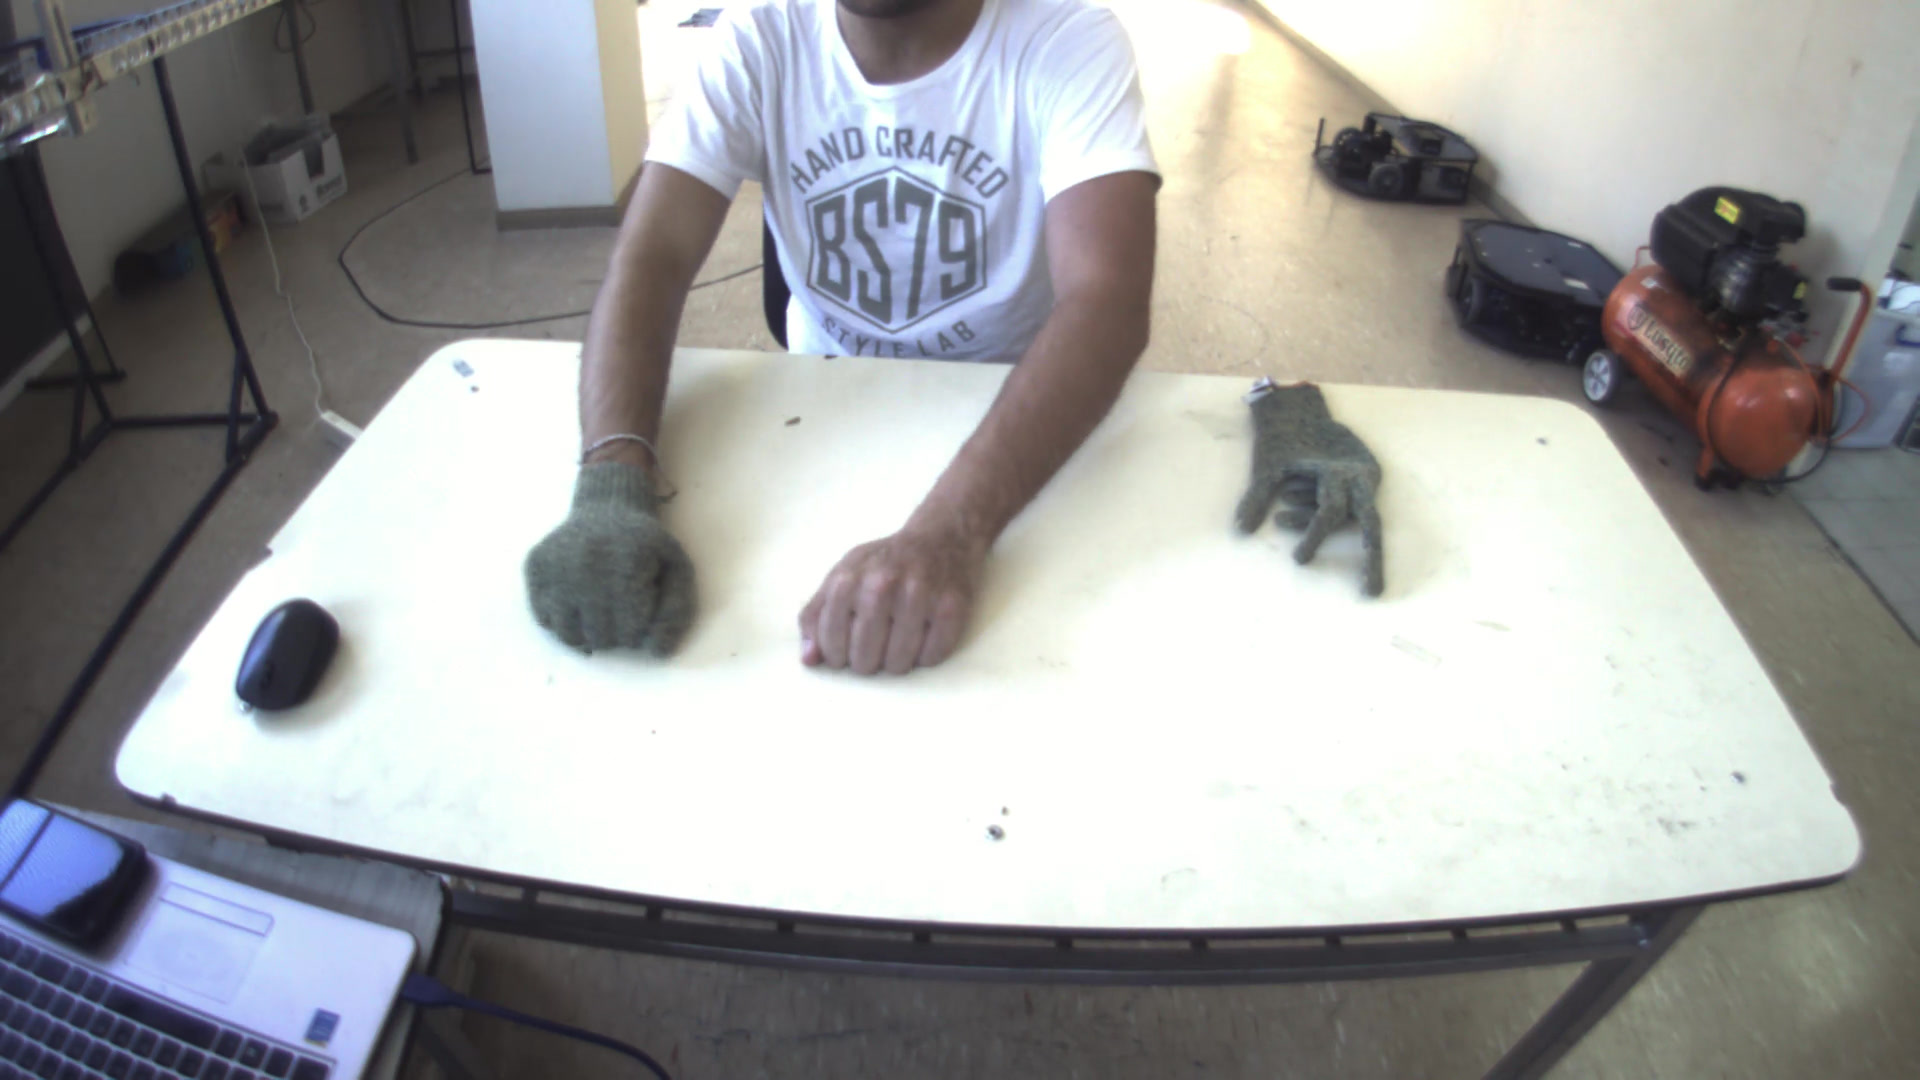hand: (509, 434, 705, 661), (794, 498, 994, 676)
